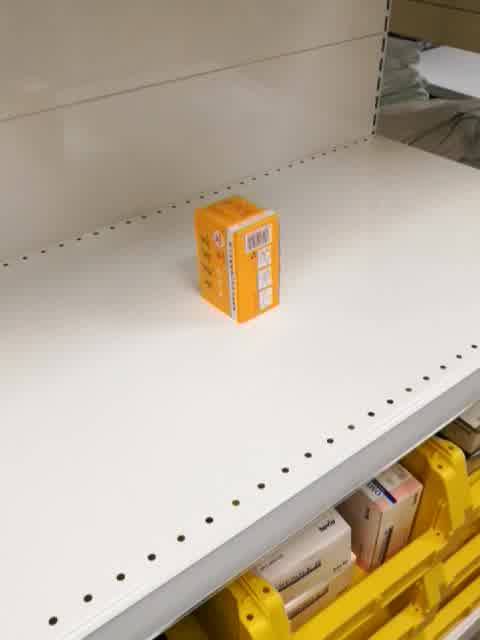jasminetea: (192, 193, 280, 325)
